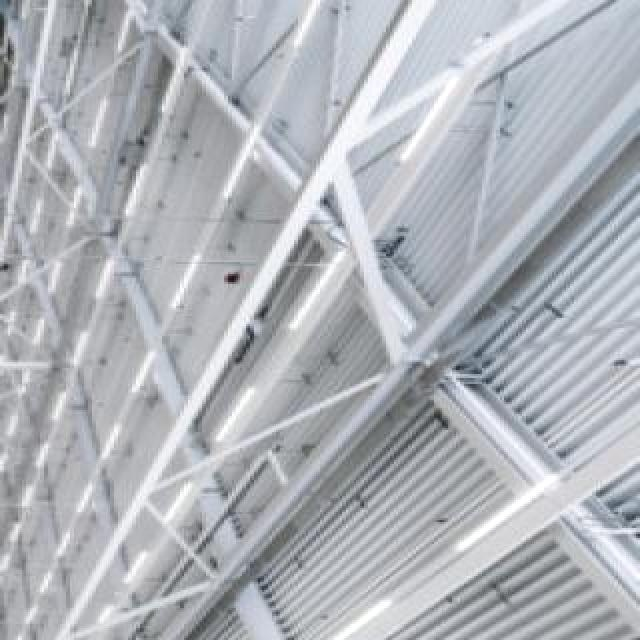fluorescent tube: (379, 55, 457, 180), (271, 240, 362, 338), (207, 107, 264, 209), (147, 7, 189, 129), (156, 242, 209, 338), (284, 0, 367, 58), (125, 324, 167, 420), (103, 151, 161, 220), (202, 385, 262, 451), (83, 409, 133, 471), (58, 178, 102, 246), (31, 516, 84, 569), (77, 89, 115, 160), (58, 471, 104, 529), (85, 247, 123, 315), (109, 547, 158, 597), (155, 478, 200, 527), (9, 309, 62, 349), (109, 4, 144, 58), (38, 249, 78, 296), (38, 383, 75, 433), (0, 396, 28, 450), (16, 355, 44, 397), (2, 520, 29, 555), (66, 626, 96, 640)
